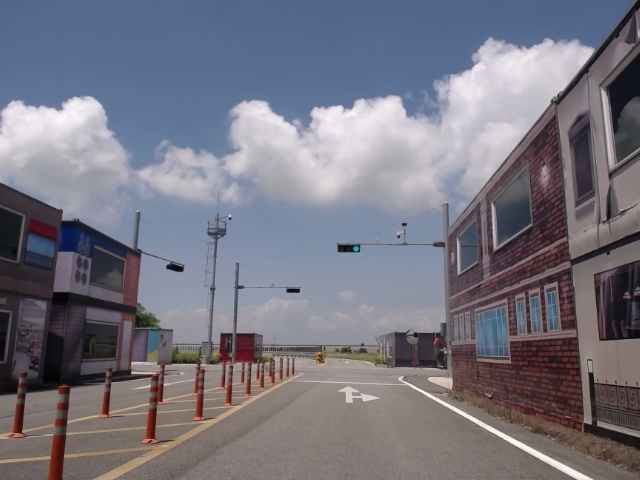green_3: (338, 244, 360, 251)
